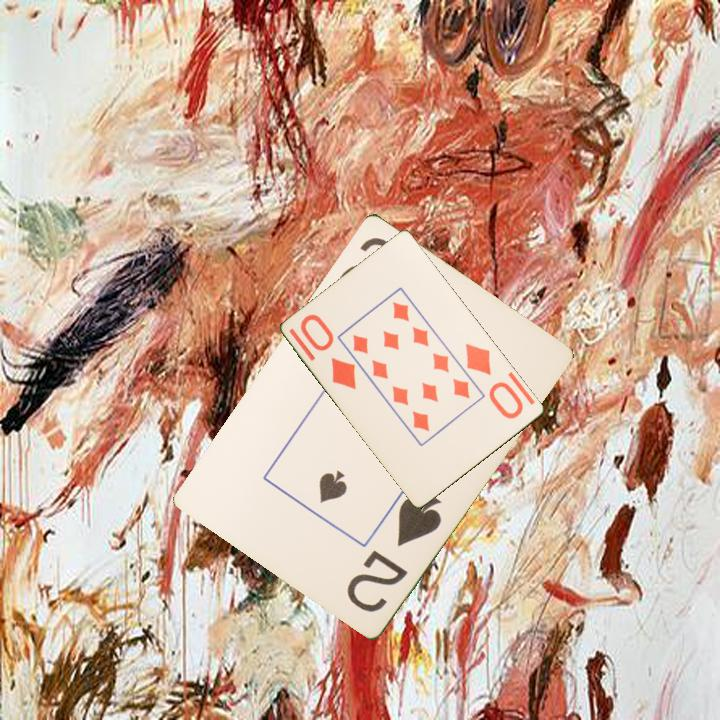10d: (462, 339, 527, 422), (297, 310, 360, 393)
2s: (342, 486, 445, 615)
